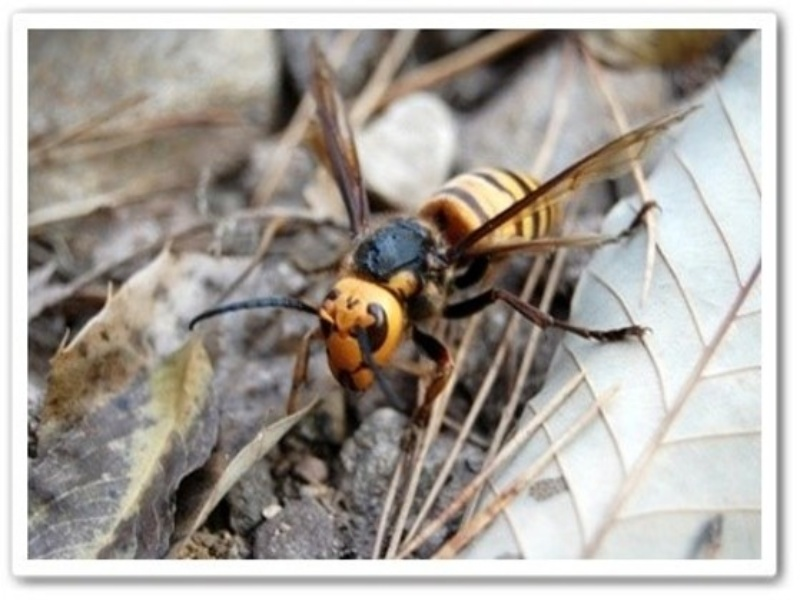asian_giant_hornet: (193, 141, 654, 424)
